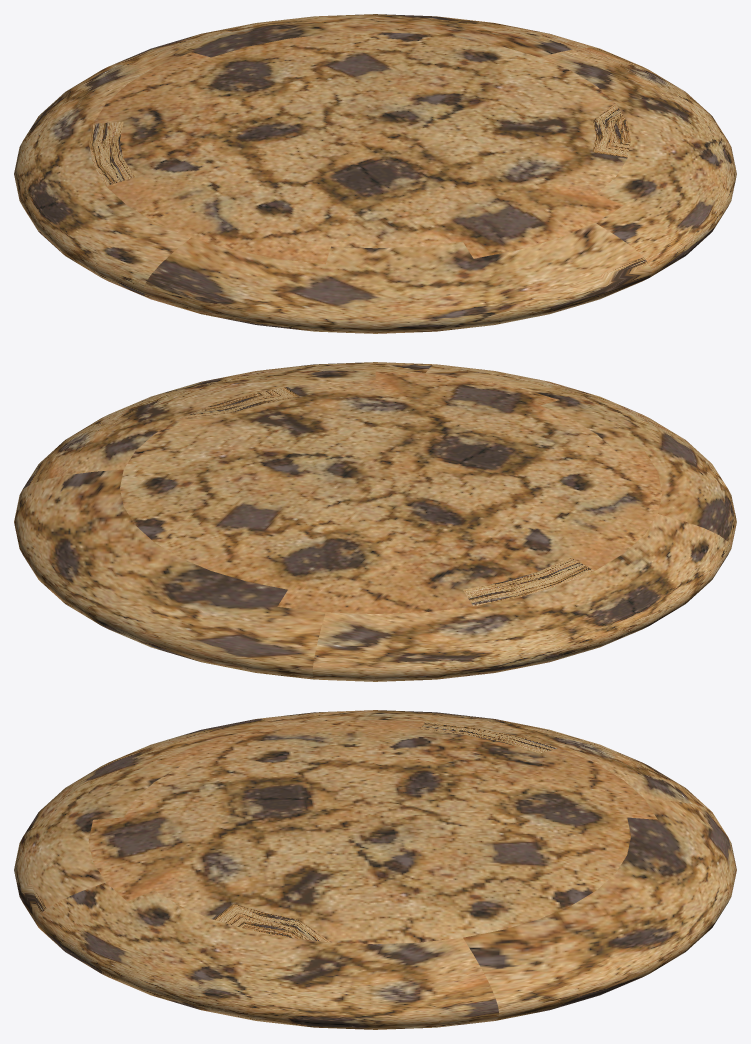
Rendered from cookie.fbx.
The picture shows the model from 3 angles, top to bottom: view 1: azimuth 30°, elevation 25°; view 2: azimuth 150°, elevation 25°; view 3: azimuth 270°, elevation 25°; orthographic projection.
Parts seen in each view (by area): view 1: Sphere; view 2: Sphere; view 3: Sphere.
Boxes of the visible parts, x1,y1,x2,y2 form: Sphere: (14,14,736,333); Sphere: (14,362,736,681); Sphere: (14,710,736,1029).
Size of the model in its own units: 200 by 29.15 by 200.
